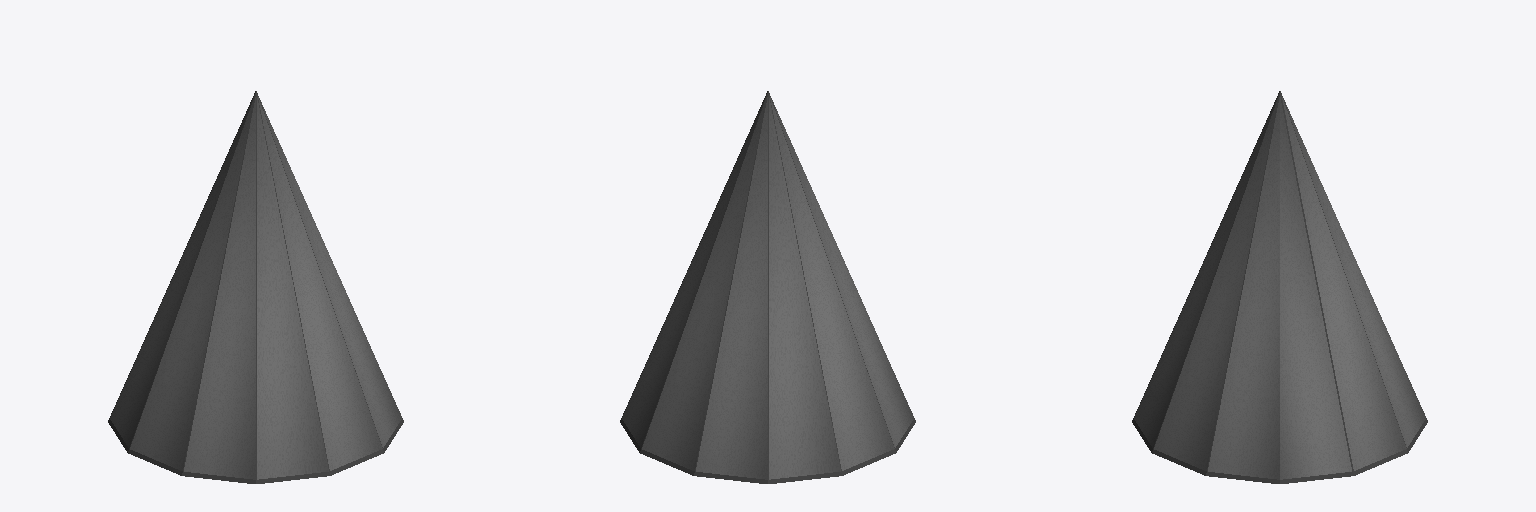
3 renders of one model, left to right at view 1: azimuth 30°, elevation 25°; view 2: azimuth 150°, elevation 25°; view 3: azimuth 270°, elevation 25°, orthographic.
Bounding box in the file's own units: 1.62 × 2 × 1.62.
1 materials, 1 textured.